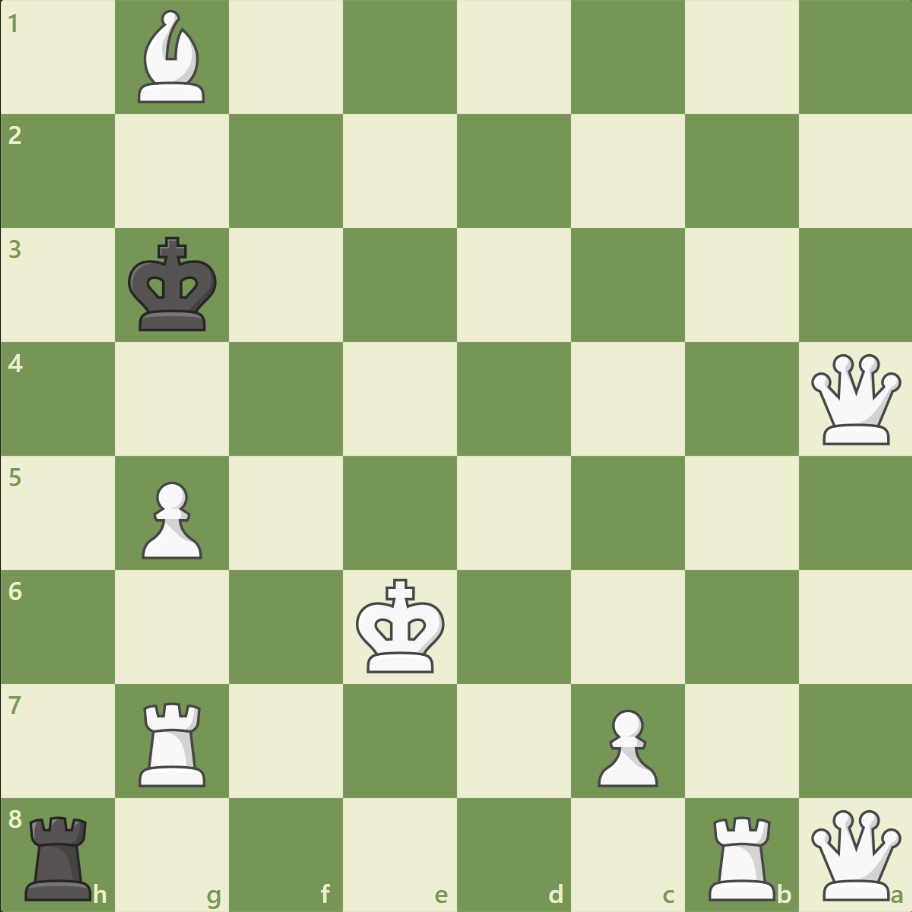B: (131, 6, 215, 109)
K: (351, 571, 451, 679)
P: (133, 473, 208, 564), (588, 700, 662, 791)
Q: (805, 349, 904, 449), (805, 804, 904, 903)
R: (700, 806, 783, 904), (133, 693, 215, 790)
k: (124, 231, 224, 339)
r: (19, 806, 102, 904)
